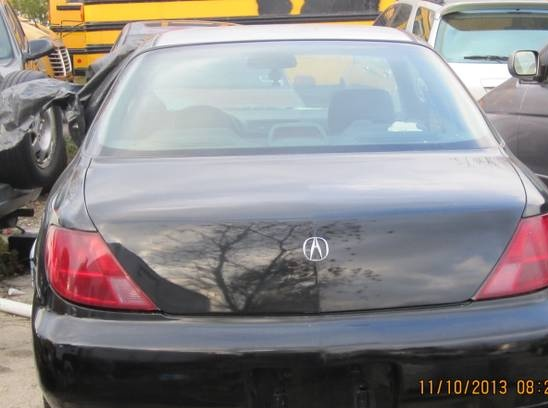acura: (26, 38, 545, 404)
